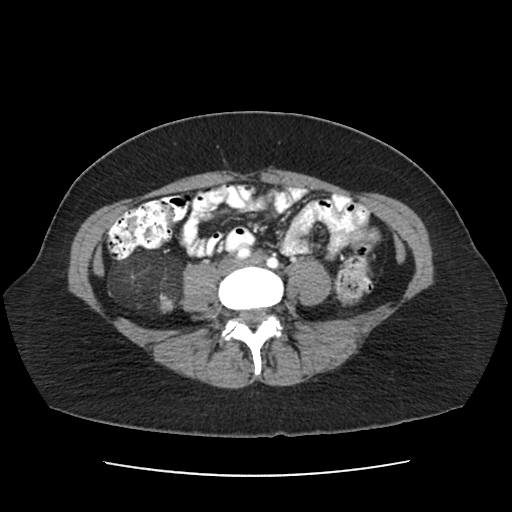Lesion: (102, 257, 188, 315)
